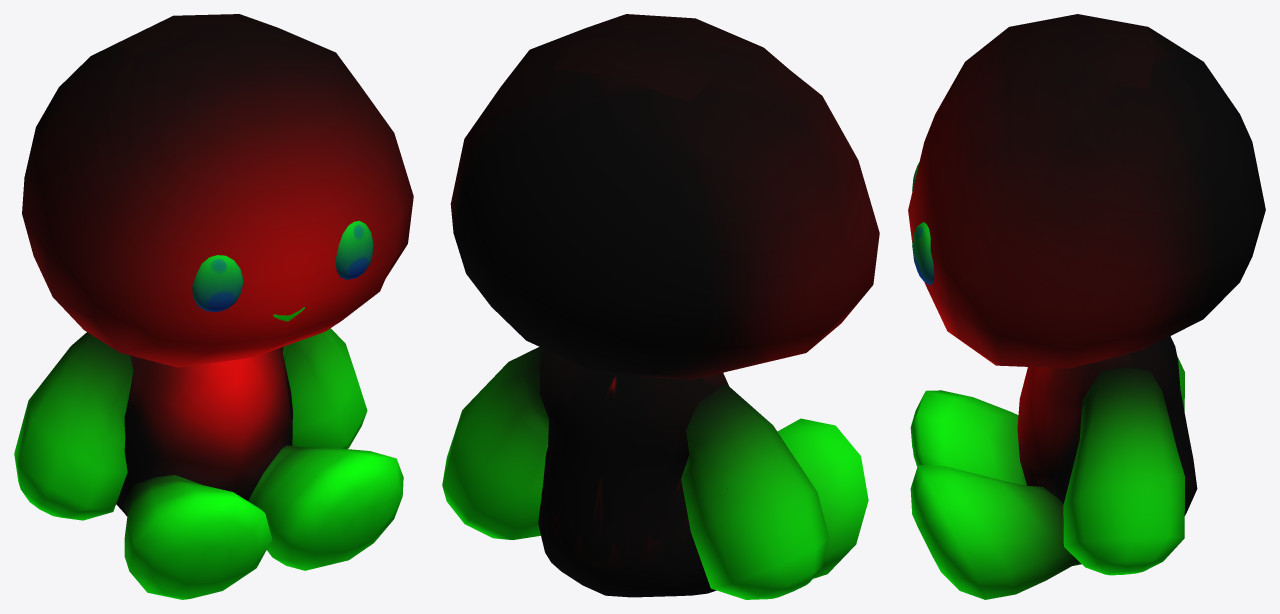
The model's file is mini base.fbx.
3 views of the same model, side by side, from view 1: azimuth 30°, elevation 25°; view 2: azimuth 150°, elevation 25°; view 3: azimuth 270°, elevation 25° (orthographic). The views are drawn at different scales.
Visible parts, largest first — view 1: Cube.003; view 2: Cube.003; view 3: Cube.003.
Boxes of the visible parts, left/top/right/bottom form: Cube.003: left=14, top=14, right=413, bottom=599; Cube.003: left=442, top=14, right=879, bottom=599; Cube.003: left=908, top=14, right=1265, bottom=599.
Bounding box in the file's own units: 22356 × 32496 × 20025.
1 material, 1 textured.
